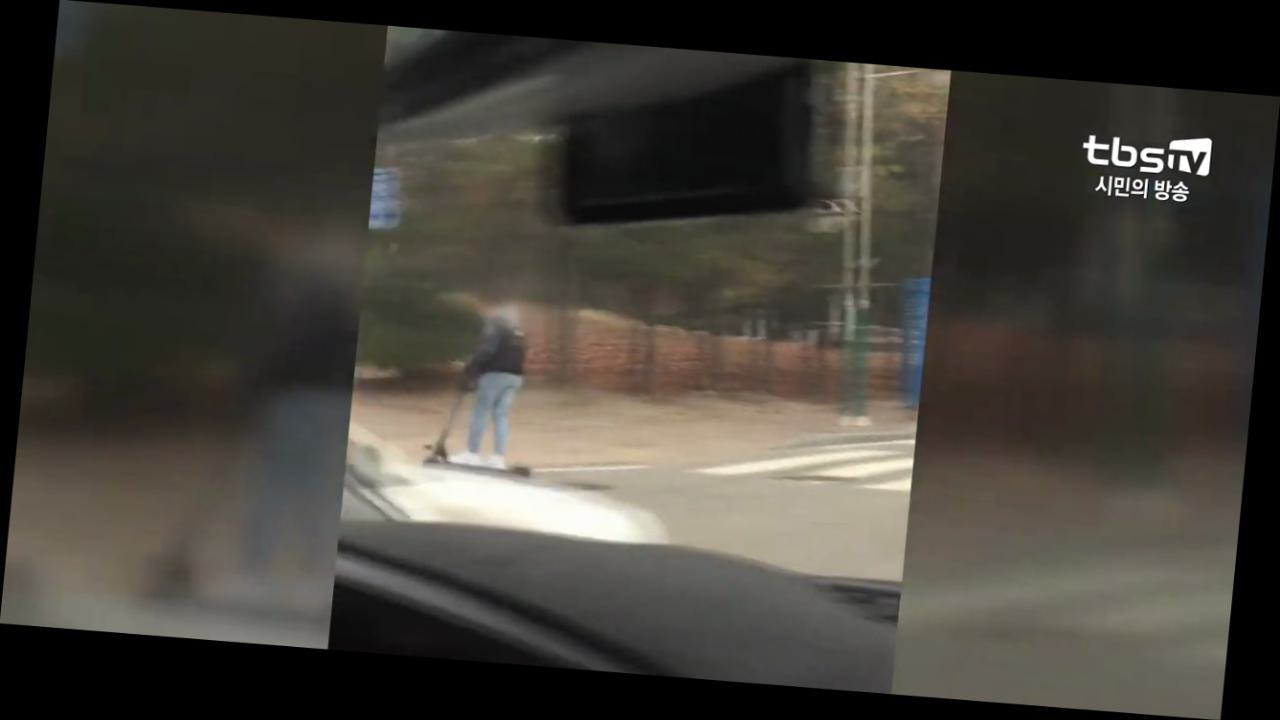nonhelmet: (421, 280, 559, 486)
